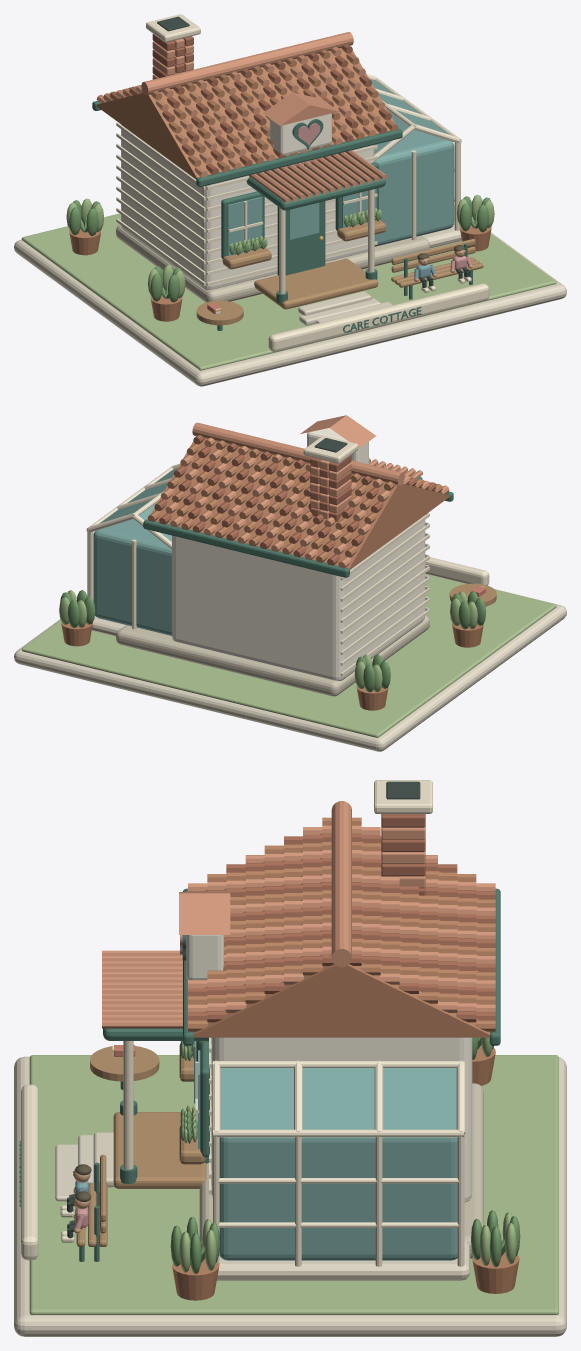
Rendered from care-cottage.glb.
3 views of the same model, one above another, from view 1: azimuth 30°, elevation 25°; view 2: azimuth 150°, elevation 25°; view 3: azimuth 270°, elevation 25° (orthographic). The views are drawn at different scales.
Visible parts, largest first — view 1: Grass.001, Cream.001, Clay.001, Clay Light.001, Stone Light.001, Ivory.001, Glass.001, Forest.001, Wood.001, Clay Shade.001, Stone.001, Leaf.001 (+3 smaller); view 2: Ivory.001, Grass.001, Clay.001, Clay Light.001, Stone Light.001, Cream.001, Glass.001, Clay Shade.001, Stone.001, Forest.001, Leaf.001, Leaf Light.001 (+1 smaller); view 3: Grass.001, Glass.001, Clay.001, Clay Light.001, Stone Light.001, Cream.001, Clay Shade.001, Ivory.001, Wood.001, Forest.001, Leaf.001, Stone.001 (+2 smaller).
Part boxes in pixels (x1,y1,x2,y2): Grass.001: (21,207,556,370); Cream.001: (116,14,489,351); Clay.001: (69,48,491,321); Clay Light.001: (96,32,386,203); Stone Light.001: (14,205,566,386); Ivory.001: (121,113,374,290); Glass.001: (227,78,454,255); Forest.001: (92,101,472,332); Wood.001: (196,219,483,325); Clay Shade.001: (109,34,391,174); Stone.001: (116,225,429,302); Leaf.001: (69,196,490,302); Ivory.001: (172,428,425,680); Grass.001: (21,574,556,737); Clay.001: (61,438,483,710); Clay Light.001: (161,415,449,568); Stone Light.001: (14,589,566,751); Cream.001: (86,435,489,676); Glass.001: (93,468,177,635); Clay Shade.001: (154,435,436,565); Stone.001: (116,615,429,696); Forest.001: (143,465,453,577); Leaf.001: (60,590,485,692); Leaf Light.001: (59,590,477,692); Grass.001: (29,1055,558,1314); Glass.001: (194,1041,457,1260); Clay.001: (172,817,519,1300); Clay Light.001: (102,801,495,1028); Stone Light.001: (14,1056,566,1336); Cream.001: (21,780,465,1266); Clay Shade.001: (188,814,495,1022); Ivory.001: (186,935,472,1202); Wood.001: (76,1043,206,1246); Forest.001: (19,888,500,1261); Leaf.001: (170,1037,520,1273); Stone.001: (199,1083,483,1258).
Size of the model in its own units: 8 by 5.04 by 7.
